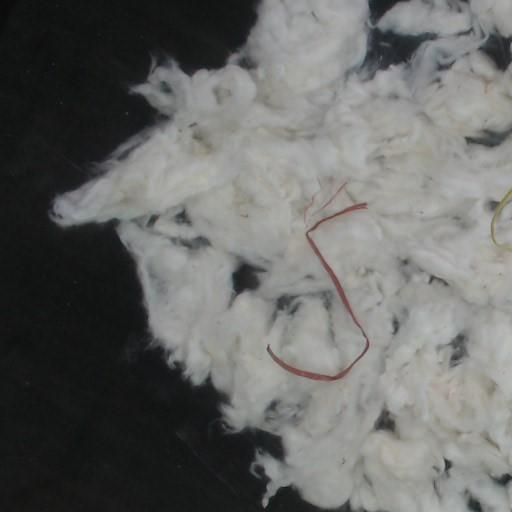conveyor belt: (0, 0, 280, 511)
cotton: (51, 0, 511, 511)
thread: (267, 203, 369, 380), (491, 188, 511, 252)
